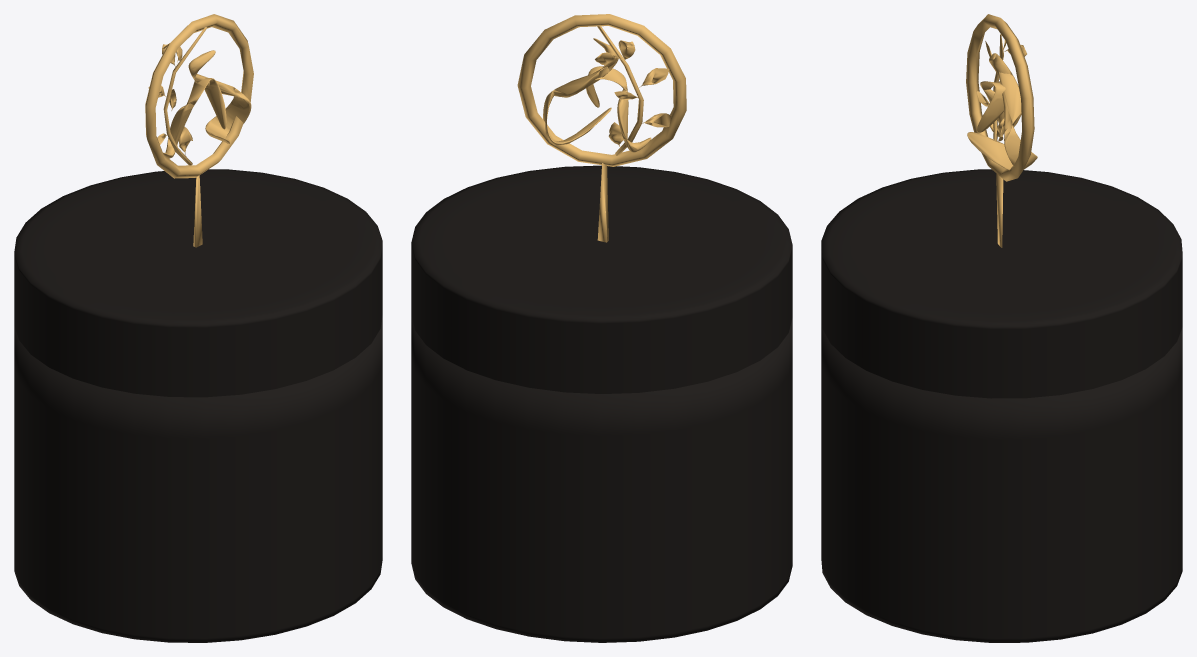
The model's file is 1-tier-black-none-ring.glb.
3 renders of one model, left to right at view 1: azimuth 30°, elevation 25°; view 2: azimuth 150°, elevation 25°; view 3: azimuth 270°, elevation 25°, orthographic.
Parts seen in each view (by area): view 1: Cylinder.019, Cylinder.017; view 2: Cylinder.019, Cylinder.017; view 3: Cylinder.019, Cylinder.017.
Part boxes in pixels (box(x1,y1,x2,y2)): Cylinder.019: box(14, 169, 382, 642); Cylinder.017: box(145, 14, 253, 247); Cylinder.019: box(411, 165, 792, 642); Cylinder.017: box(517, 14, 686, 242); Cylinder.019: box(821, 169, 1182, 642); Cylinder.017: box(966, 14, 1037, 247).
Bounding box in the file's own units: 2.63 × 4.23 × 2.55.
